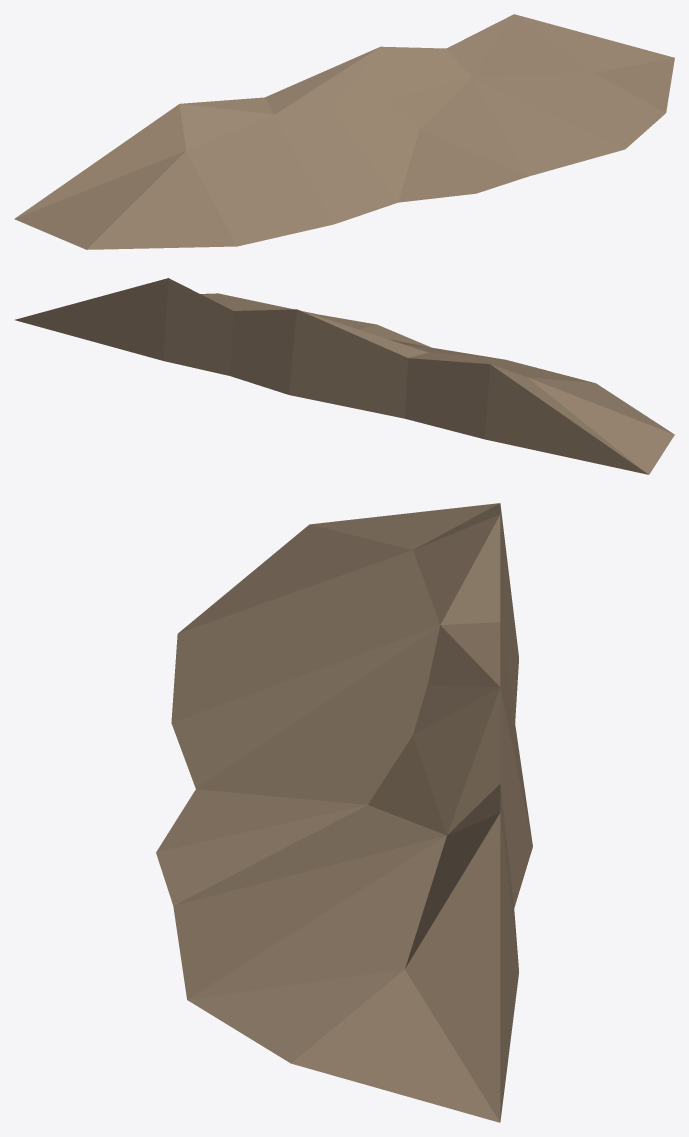
Rendered from SM_Env_SandEdge_03.fbx.
3 renders of one model, top to bottom at view 1: azimuth 30°, elevation 25°; view 2: azimuth 150°, elevation 25°; view 3: azimuth 270°, elevation 25°, orthographic. The views are drawn at different scales.
Visible parts, largest first — view 1: SM_Env_SandEdge_03; view 2: SM_Env_SandEdge_03; view 3: SM_Env_SandEdge_03.
Boxes of the visible parts, x1,y1,x2,y2 form: SM_Env_SandEdge_03: (14, 14, 674, 249); SM_Env_SandEdge_03: (15, 278, 674, 474); SM_Env_SandEdge_03: (156, 503, 532, 1122).
Bounding box in the file's own units: 811 × 97.23 × 209.
